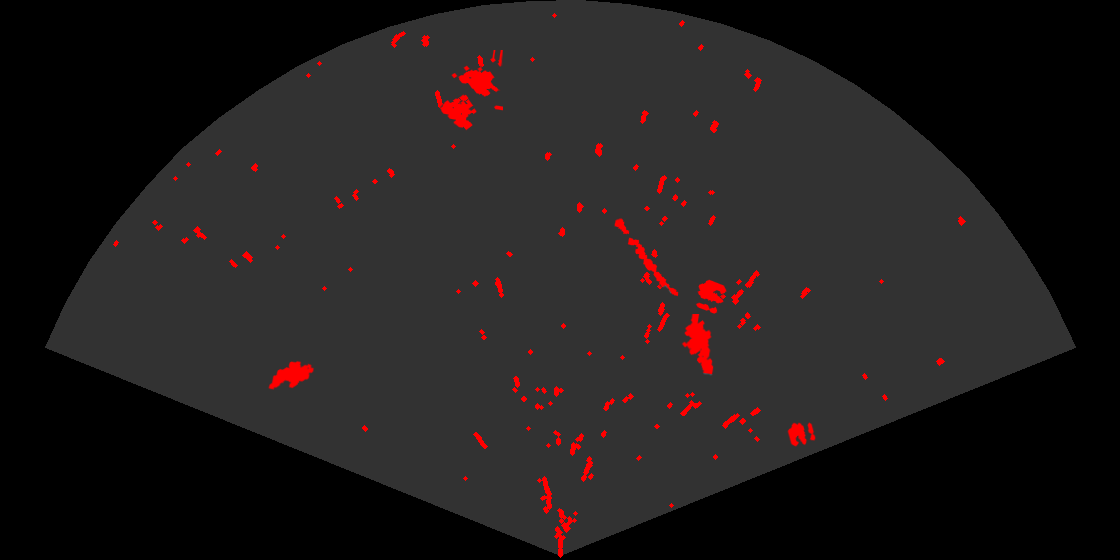AUV: (267, 359, 316, 391)
ball: (694, 278, 728, 315), (786, 421, 817, 448)
cage: (439, 50, 503, 132)
chain: (613, 217, 680, 298)
frogman: (680, 314, 715, 376)
